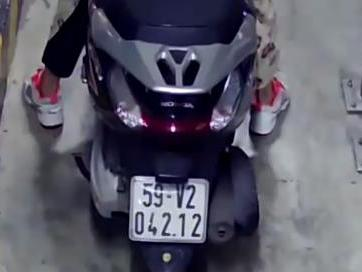num_plate: (126, 175, 215, 246)
